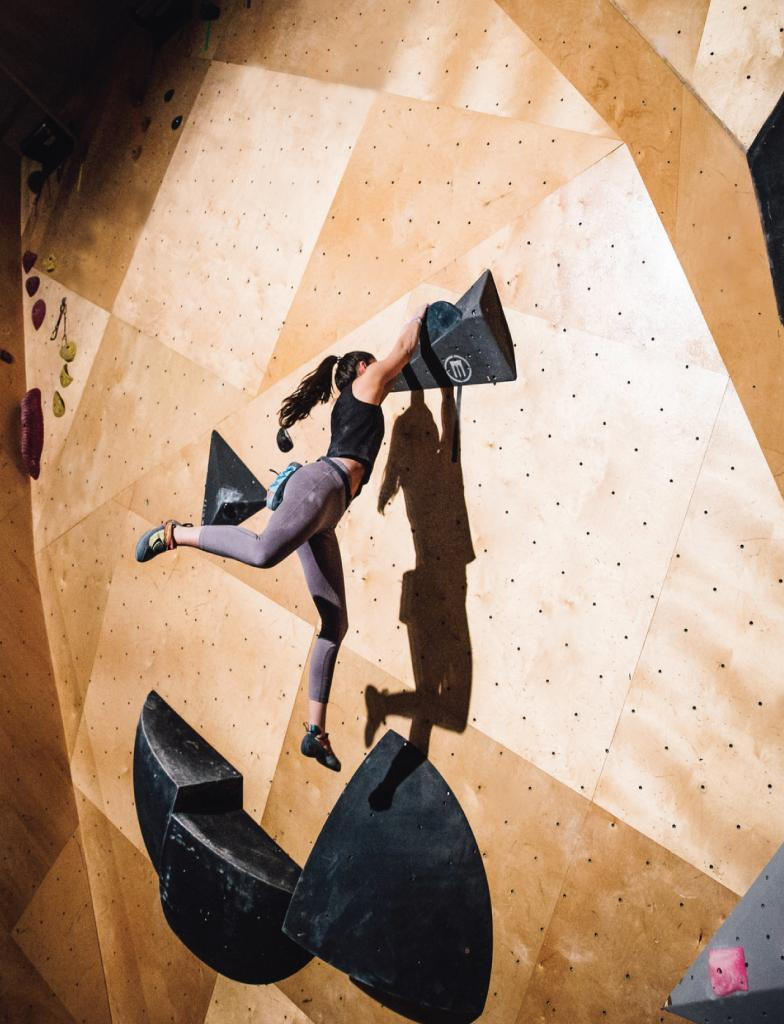crimp: (277, 428, 293, 452)
jug: (421, 301, 462, 351)
pinch: (21, 388, 43, 479)
volume: (283, 731, 492, 1023), (159, 810, 313, 984), (133, 691, 242, 872), (393, 269, 516, 391), (203, 430, 266, 525)
